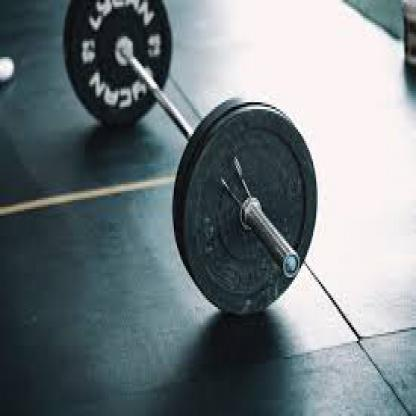Barbell: (165, 88, 328, 325)
